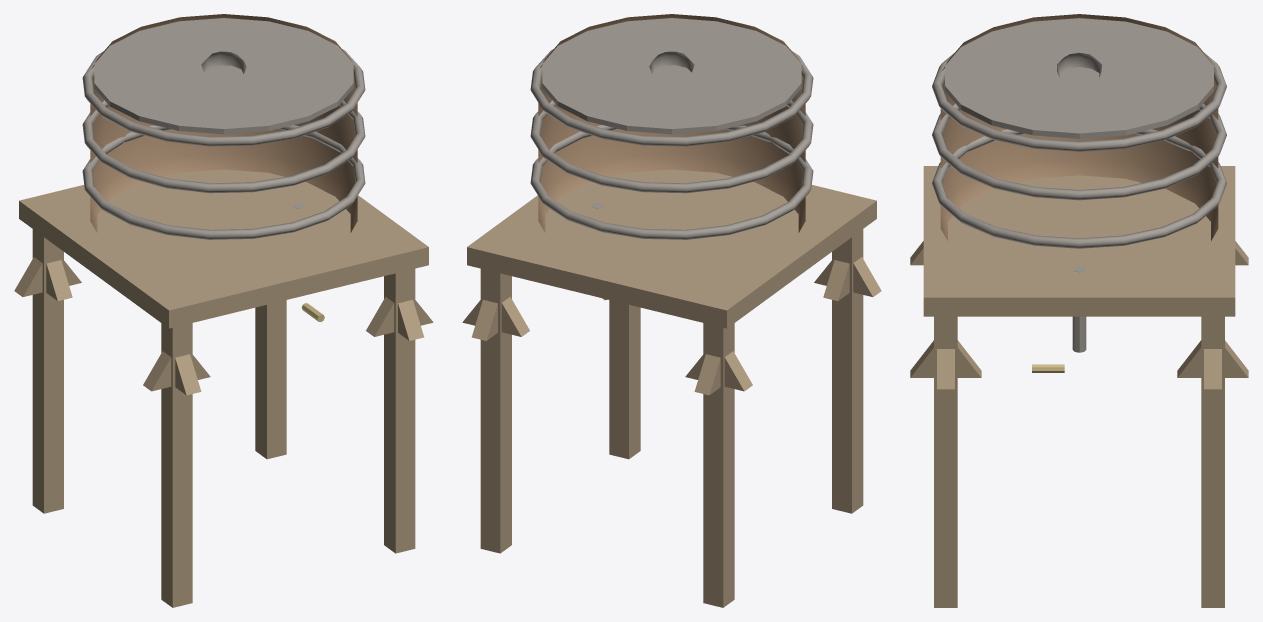
Rendered from trench-line-1917-water-tank-fc981b1f__24122.glb.
3 views of the same model, side by side, from view 1: azimuth 30°, elevation 25°; view 2: azimuth 150°, elevation 25°; view 3: azimuth 270°, elevation 25° (orthographic). The views are drawn at different scales.
Visible parts, largest first — view 1: water-tank; view 2: water-tank; view 3: water-tank.
Part boxes in pixels (x1,y1,x2,y2): water-tank: (14,14,433,607); water-tank: (462,14,881,607); water-tank: (910,14,1248,607).
Bounding box in the file's own units: 2.28 × 3.62 × 2.28.
